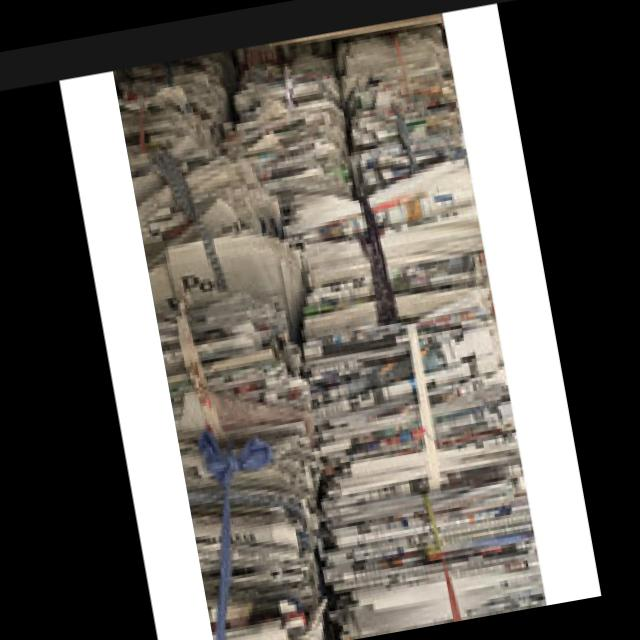Koran: (115, 15, 549, 640)
